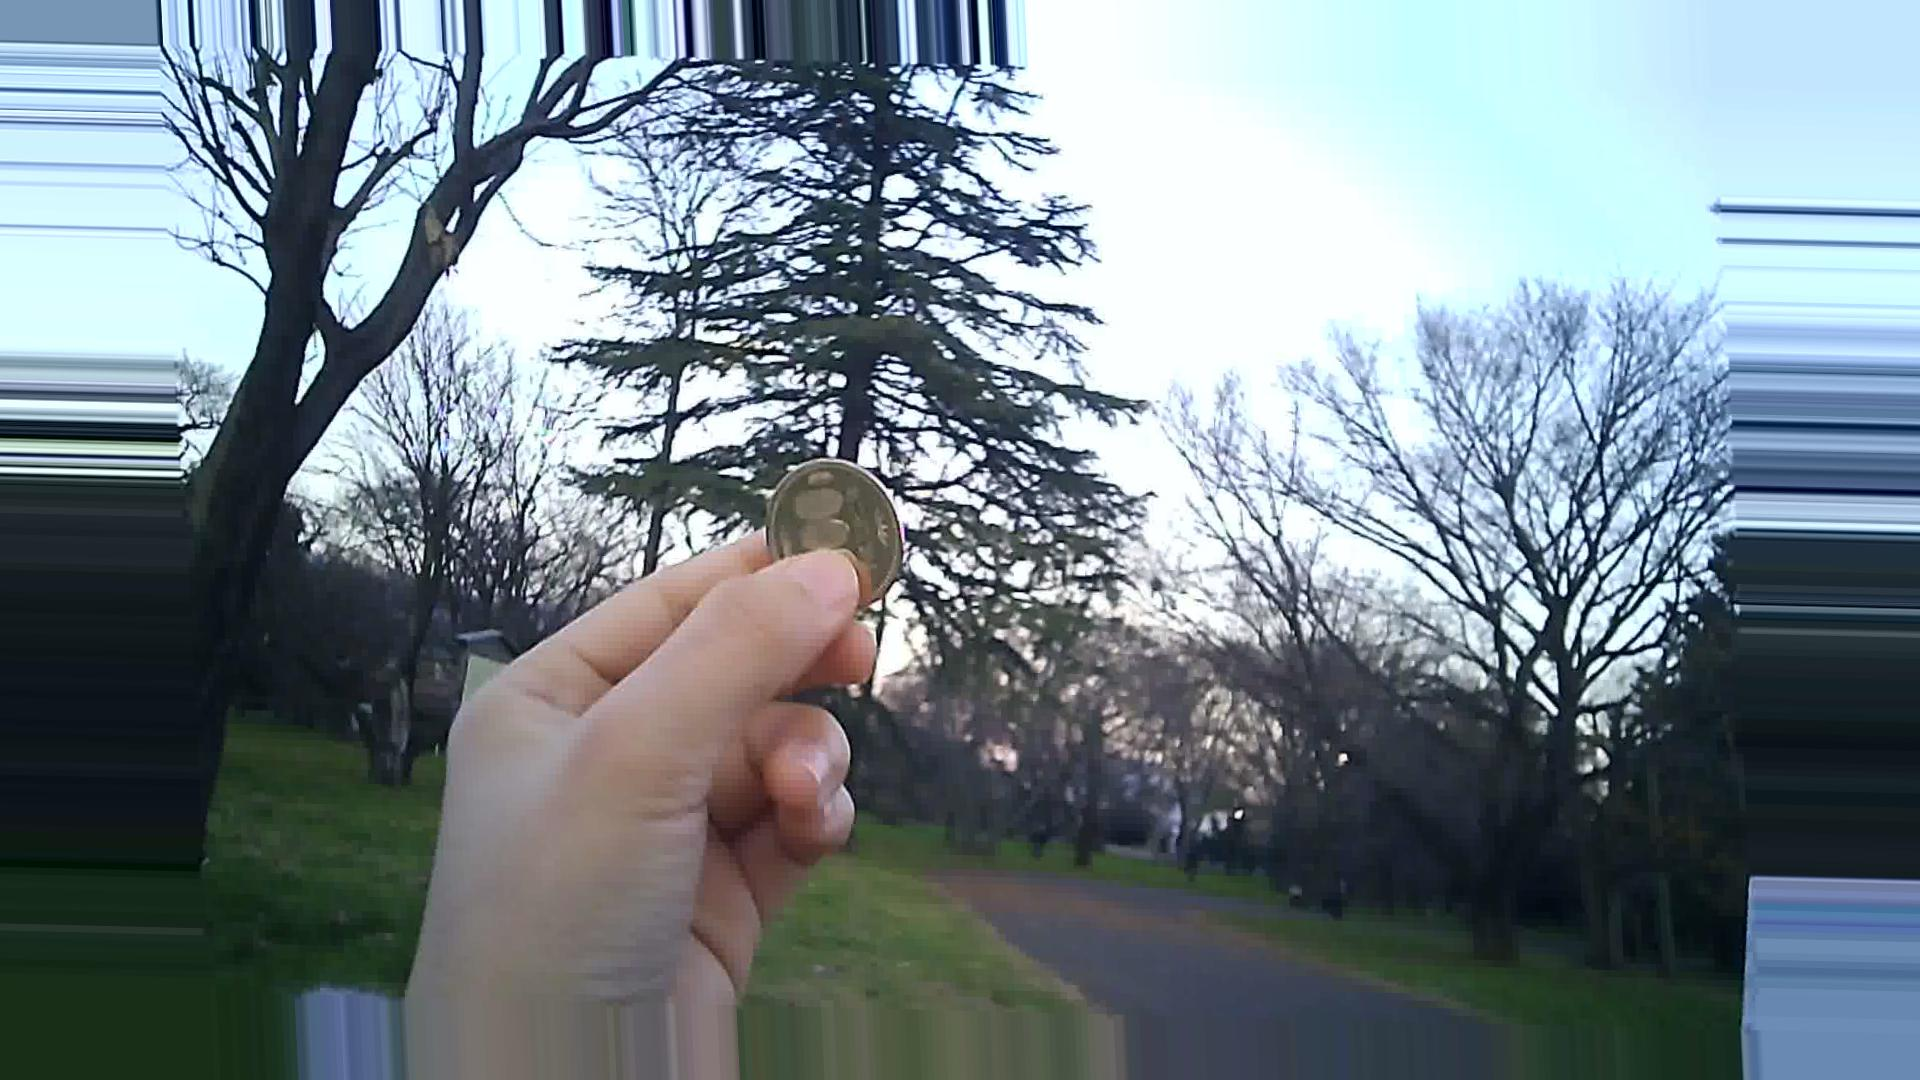500 Yen: (753, 458, 903, 607)
